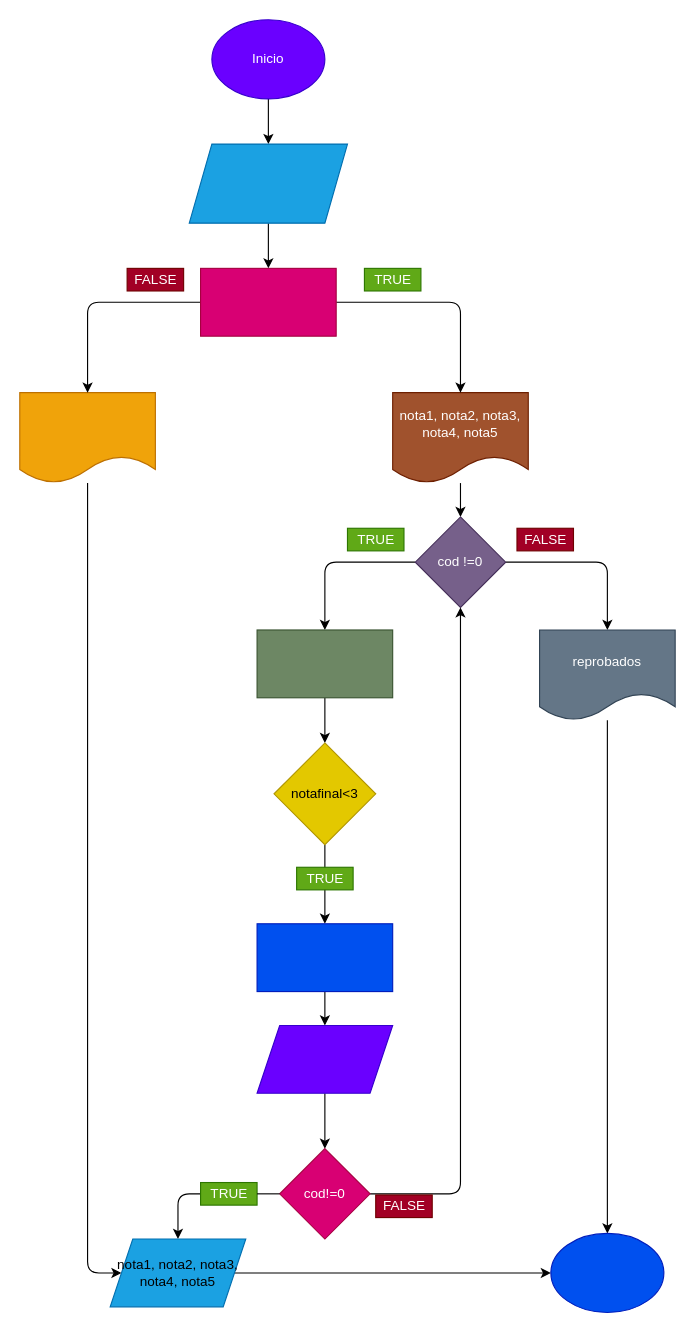
Some shapes in this 695 by 1332 pixel diagram are drawn without their labels. The centre of each missing label's shape, as x and y in pixels:
"cod" goes at (x=324, y=1058).
"cod=0" goes at (x=267, y=183).
"codigo es != a 0" goes at (x=267, y=301).
"FIN" goes at (x=607, y=1272).
"fin de los datos de entrada" goes at (x=87, y=437).
"notafinal= (nota1, nota2, nota3, nota4, nota5) /5" goes at (x=324, y=663).
"reprobados= reprobados +1" goes at (x=324, y=957).
